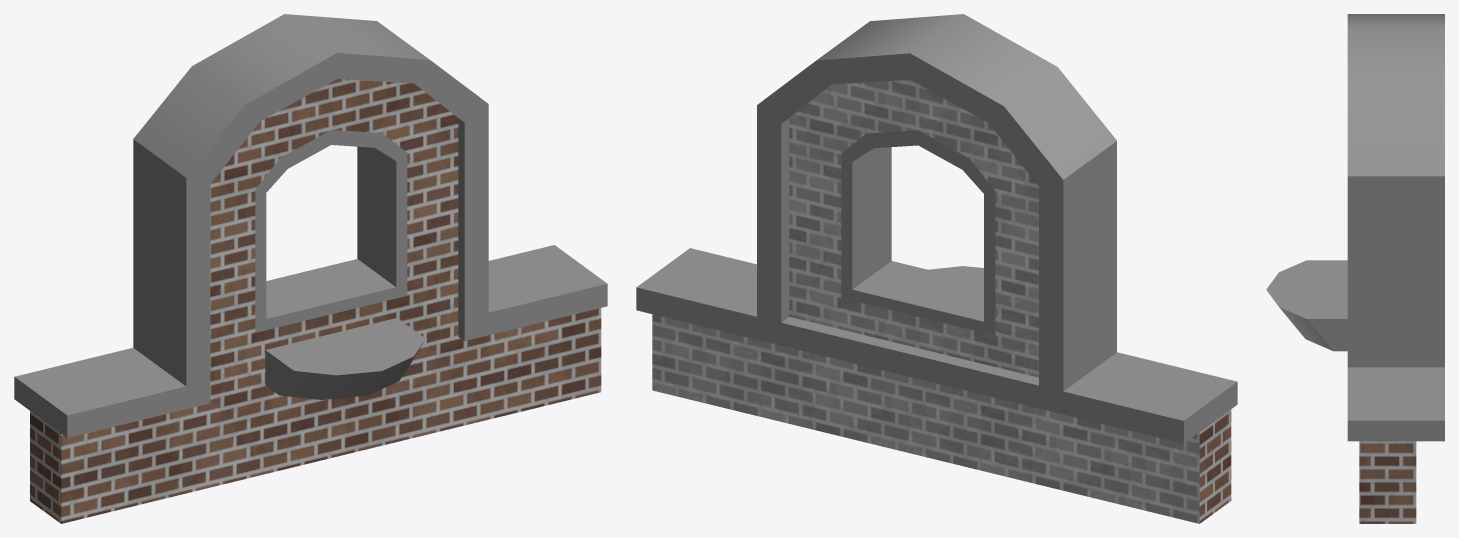
The model's file is Roof_Wall_002.FBX.
3 views of the same model, side by side, from view 1: azimuth 30°, elevation 25°; view 2: azimuth 150°, elevation 25°; view 3: azimuth 270°, elevation 25° (orthographic). The views are drawn at different scales.
Parts seen in each view (by area): view 1: Roof_Wall_002; view 2: Roof_Wall_002; view 3: Roof_Wall_002.
Boxes of the visible parts, left/top/right/bottom form: Roof_Wall_002: left=14, top=14, right=607, bottom=523; Roof_Wall_002: left=636, top=14, right=1237, bottom=523; Roof_Wall_002: left=1266, top=14, right=1444, bottom=523.
Bounding box in the file's own units: 500 × 156 × 363.
